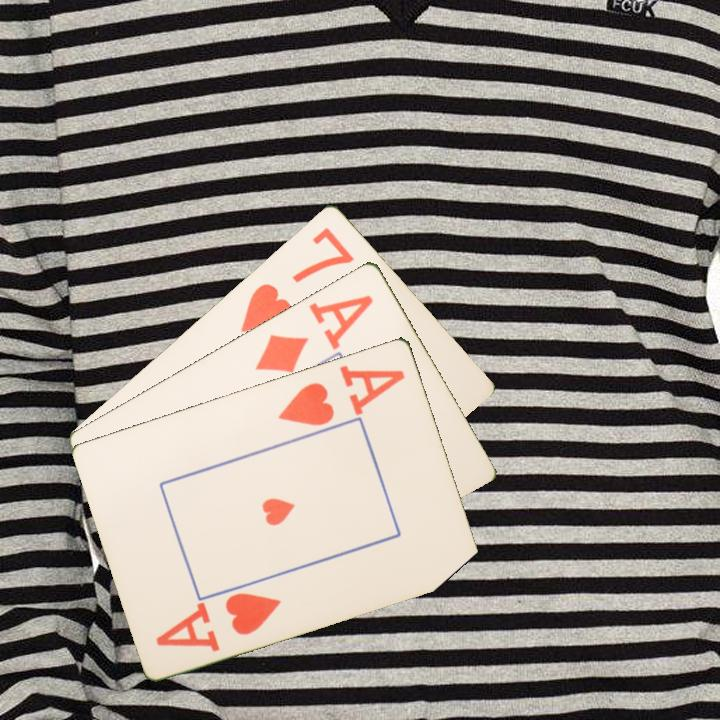7h: (237, 223, 357, 335)
Ad: (252, 290, 377, 376)
Ah: (274, 361, 408, 429), (152, 588, 284, 654)
